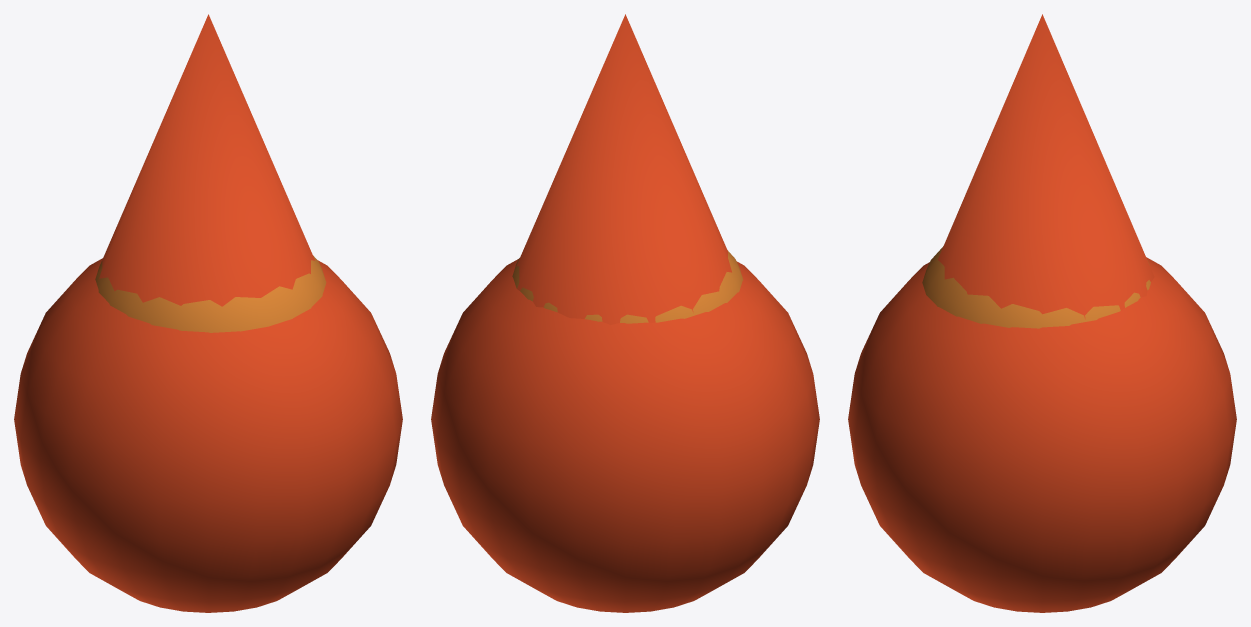
Rendered from mat_ember.glb.
3 renders of one model, left to right at view 1: azimuth 30°, elevation 25°; view 2: azimuth 150°, elevation 25°; view 3: azimuth 270°, elevation 25°, orthographic.
Visible parts, largest first — view 1: _cone; view 2: _cone; view 3: _cone.
Part boxes in pixels (x1,y1,x2,y2): _cone: (14,14,402,612); _cone: (431,14,819,612); _cone: (848,14,1236,612).
Bounding box in the file's own units: 0.6 × 0.99 × 0.6.
